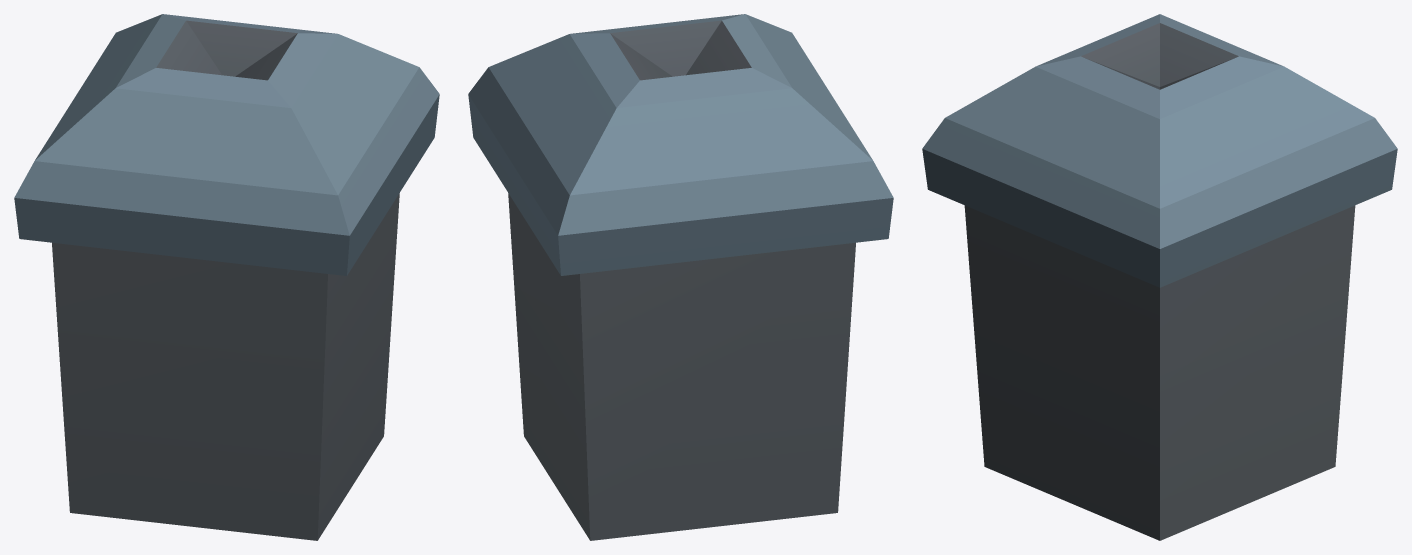
Rendered from bin.lod2.glb.
3 renders of one model, left to right at view 1: azimuth 30°, elevation 25°; view 2: azimuth 150°, elevation 25°; view 3: azimuth 270°, elevation 25°, orthographic. The views are drawn at different scales.
Bounding box in the file's own units: 0.84 × 0.8 × 0.84.
